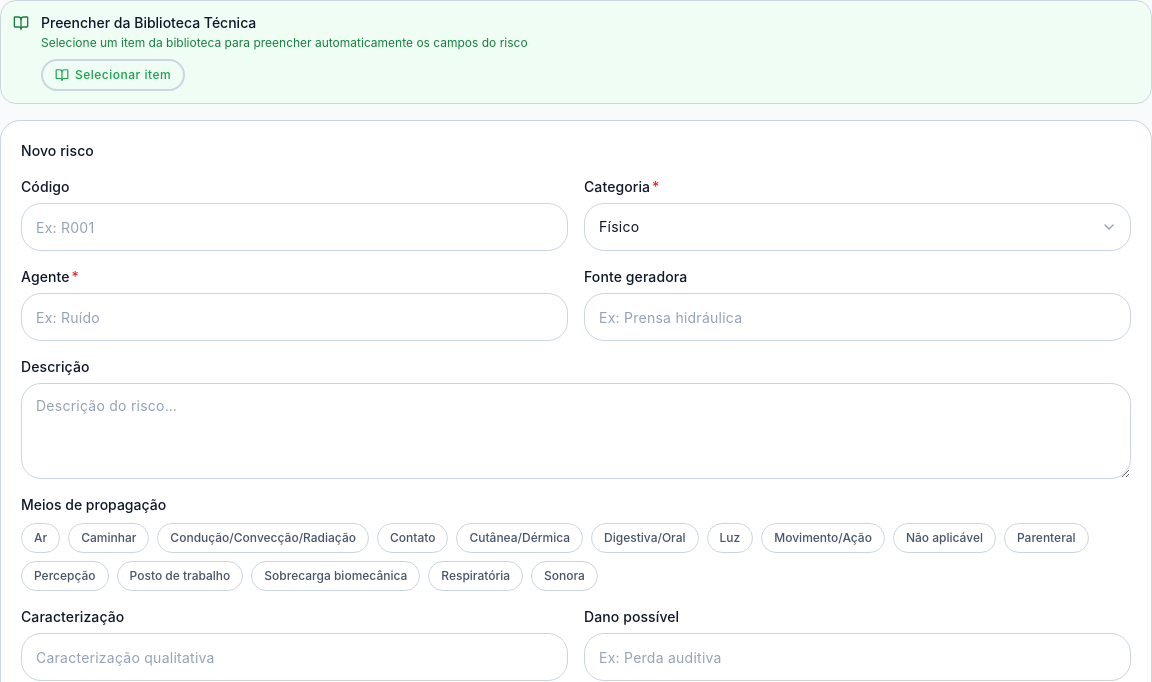
Scenario: RiscoForm — integração com Biblioteca Técnica › não sobrescreve campos já preenchidos quando usuário mantém
Type "Meu agente personalizado" into the field with placeholder "Ex: Ruído" at [294, 317], box left=21, top=293, right=568, bottom=341
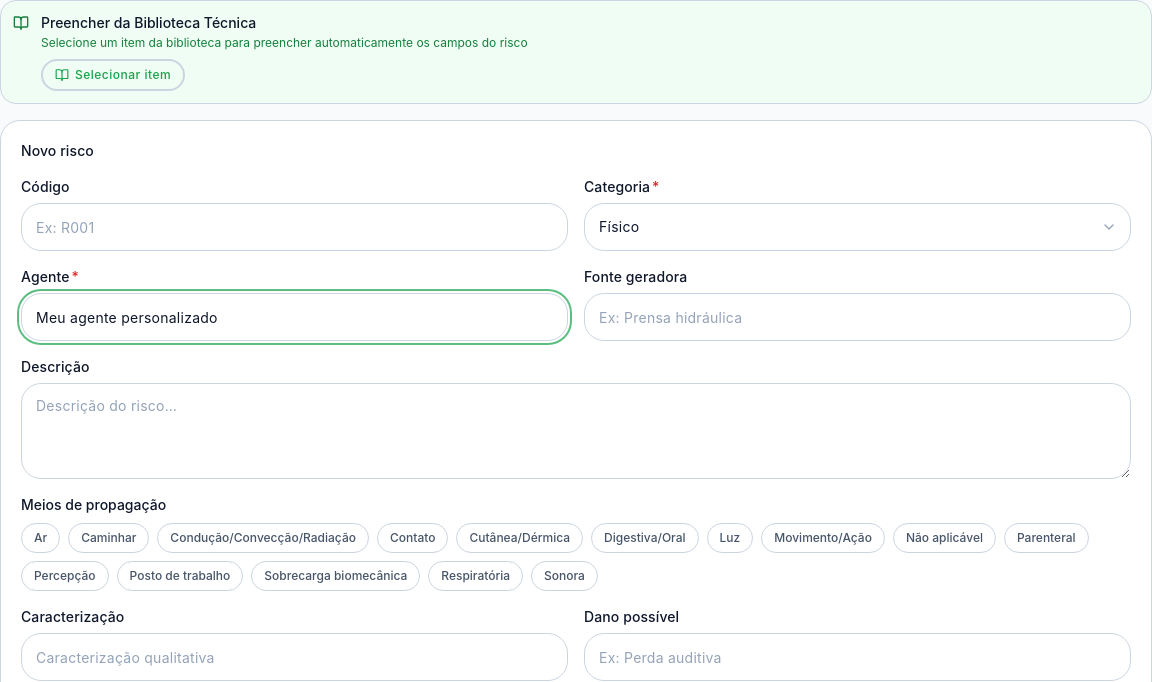
Click the button "Selecionar item" at [113, 75], box left=41, top=59, right=185, bottom=91
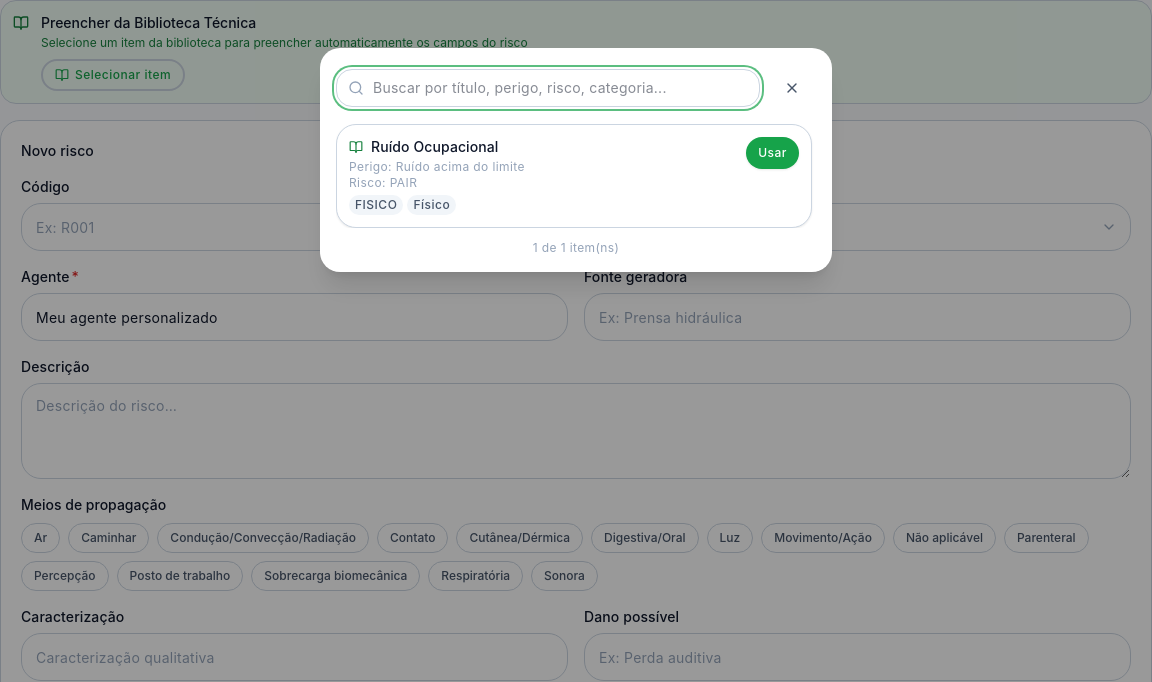
Click the text "Ruído Ocupacional" at [435, 147], box left=371, top=137, right=498, bottom=157
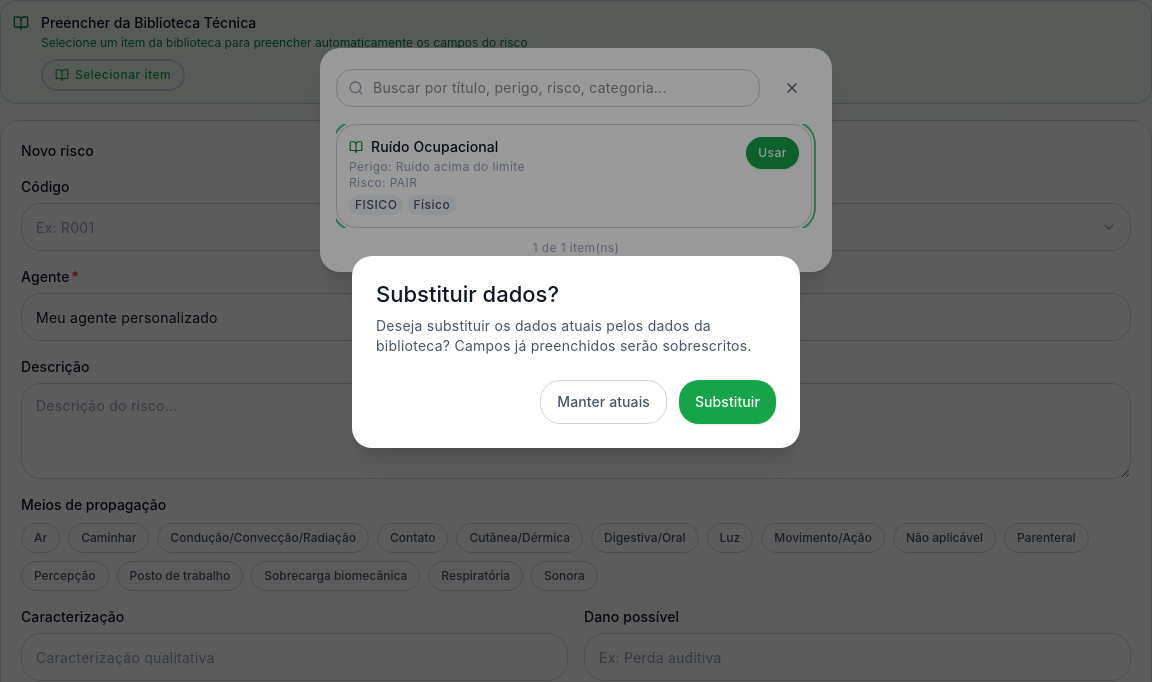
Click the button "Manter atuais" at [604, 402], box left=540, top=380, right=667, bottom=424
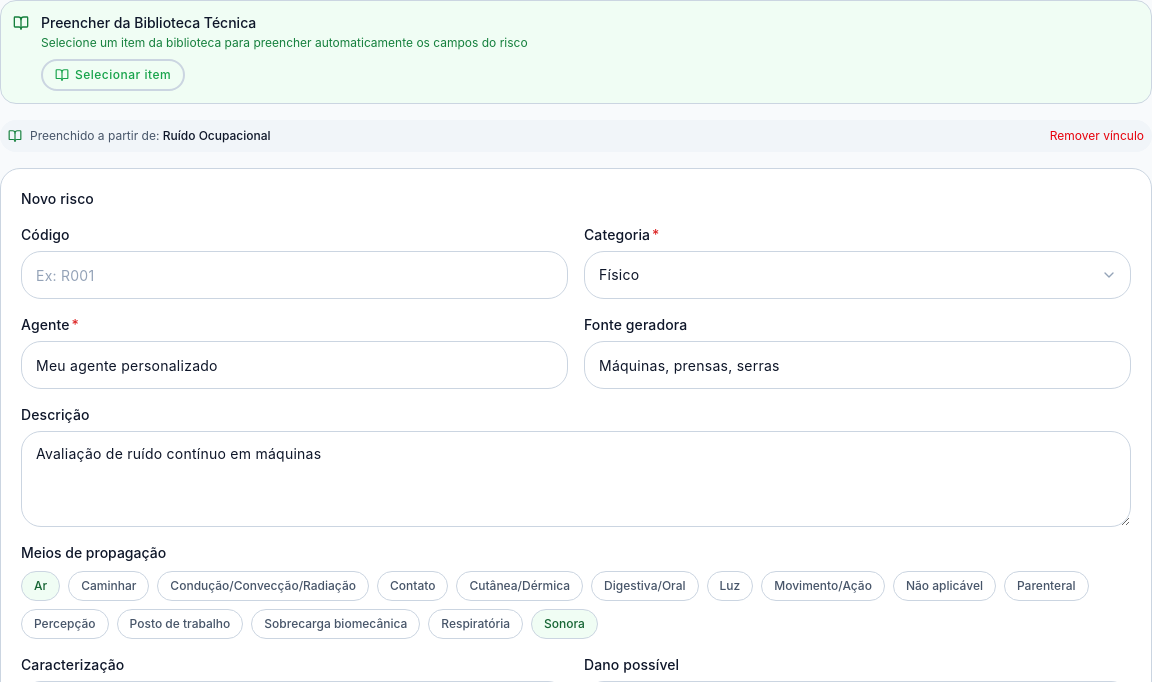
Now the button showing "Ruído acima do limite" is gone
